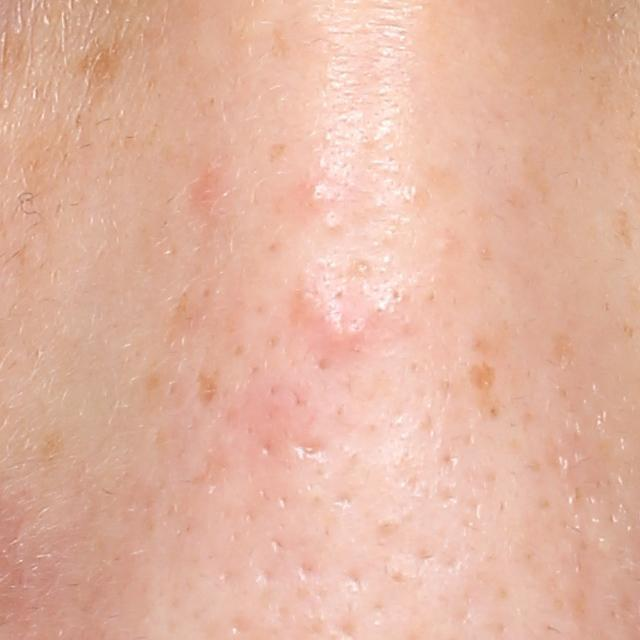atrophic_scar: (293, 440, 328, 461)
comedo: (322, 216, 344, 236)
melasma: (80, 37, 127, 88), (466, 362, 504, 421), (193, 363, 220, 407), (37, 428, 63, 463), (550, 331, 575, 366), (612, 212, 633, 246)
papule: (318, 300, 367, 351), (297, 178, 328, 209)
